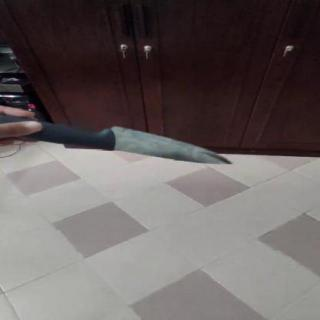knife: (81, 124, 247, 172)
